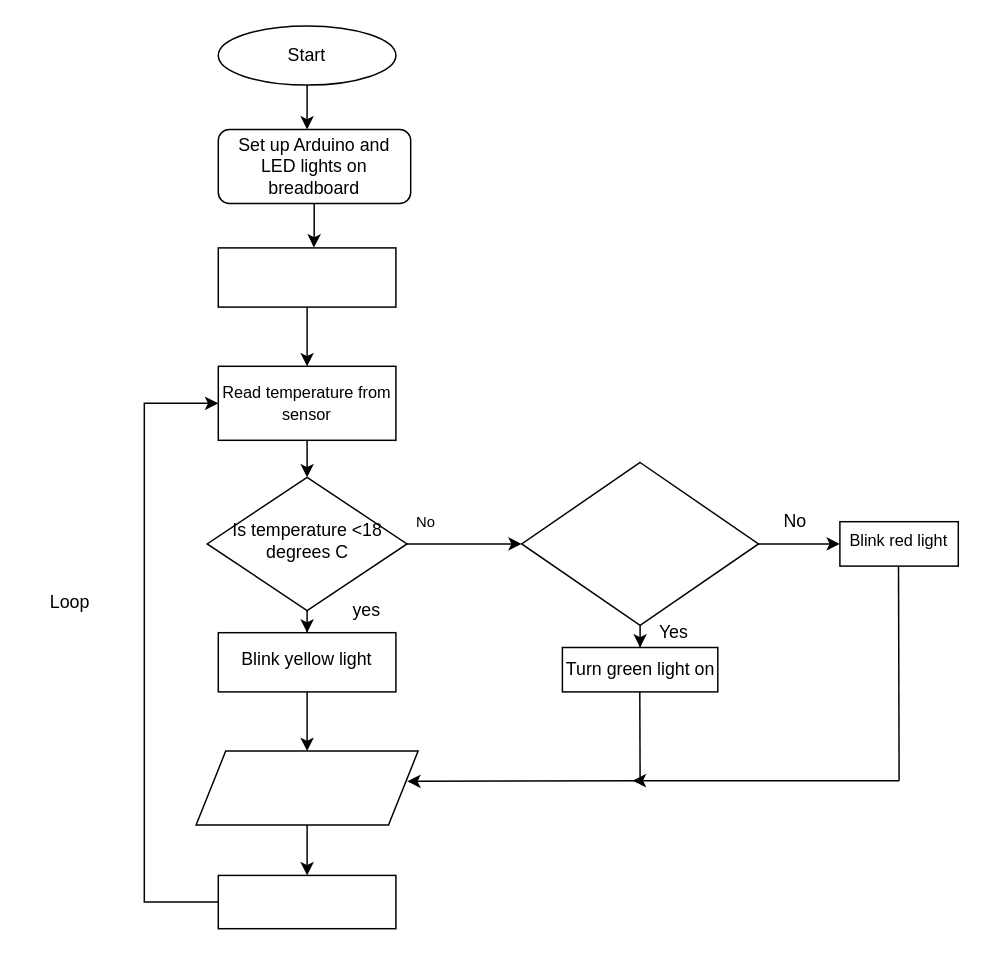
Some shapes in this 984 by 955 pixel diagram are drawn without their labels. Each missing label, with the box of its shape:
Begin main loop: (217, 246, 396, 307)
Is temperature < or equal to 24 degrees C: (520, 461, 758, 625)
Update display/plot: (195, 750, 418, 825)
Wait one second: (217, 874, 396, 929)
